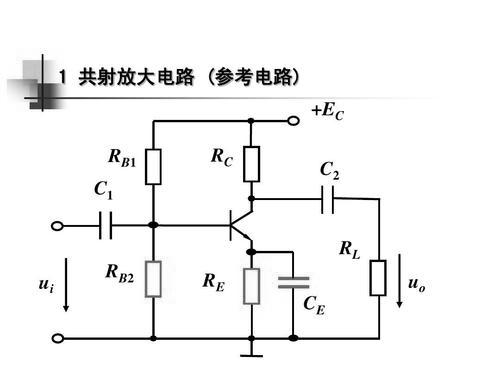cap1: (92, 206, 119, 244), (275, 269, 313, 294), (316, 181, 339, 218)
res1: (367, 255, 389, 303), (241, 140, 262, 188), (143, 256, 164, 303), (241, 264, 262, 309), (143, 145, 164, 189)
triode: (222, 205, 261, 245)
